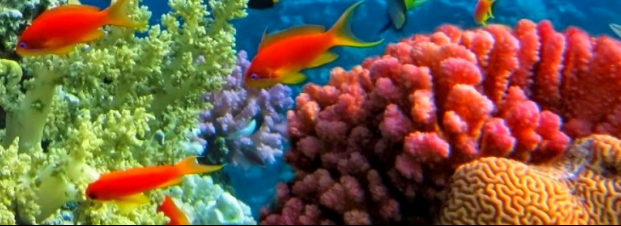fishSmall: (244, 6, 385, 92), (85, 155, 227, 204), (15, 4, 137, 56)
